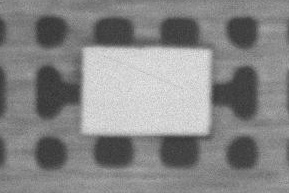DIE_CRACK: (153, 37, 273, 59)
